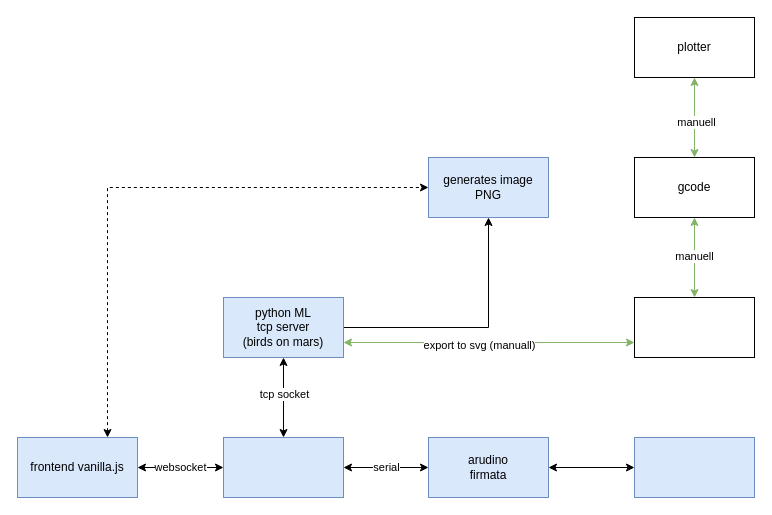
Some shapes in this 772 by 515 pixel diagram are drawn without their labels. The shapes that lost their labels are listed below. From the top down, each one's box as (x1, y1, x2, y2) in pixels, then its label:
(634, 296, 754, 358): svg
(222, 436, 344, 498): node.js express server johnny five
(634, 436, 754, 498): 6 * potentiometer
